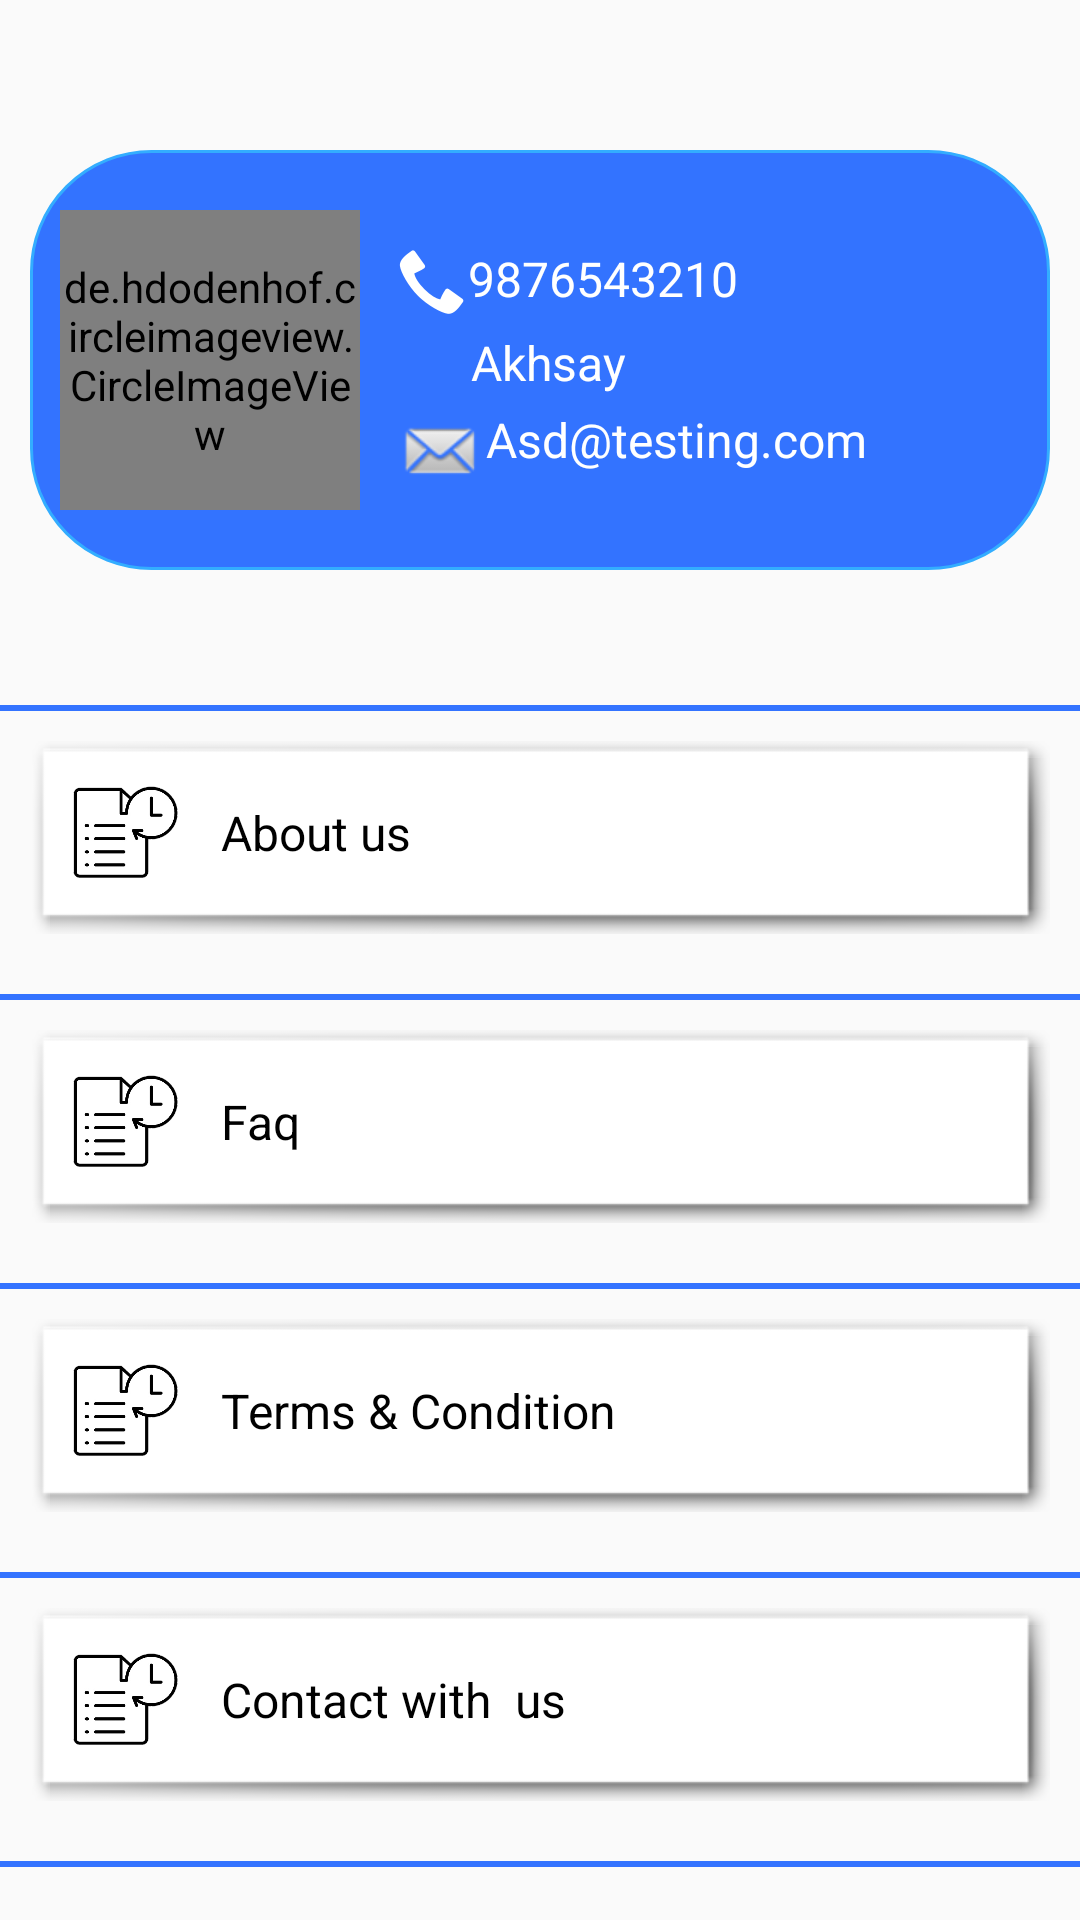

Named icons in this screenshot (1080x1920) and their centers, (x=x, y=y):
history: (x=125, y=832), (x=125, y=1121), (x=125, y=1410), (x=125, y=1699)
